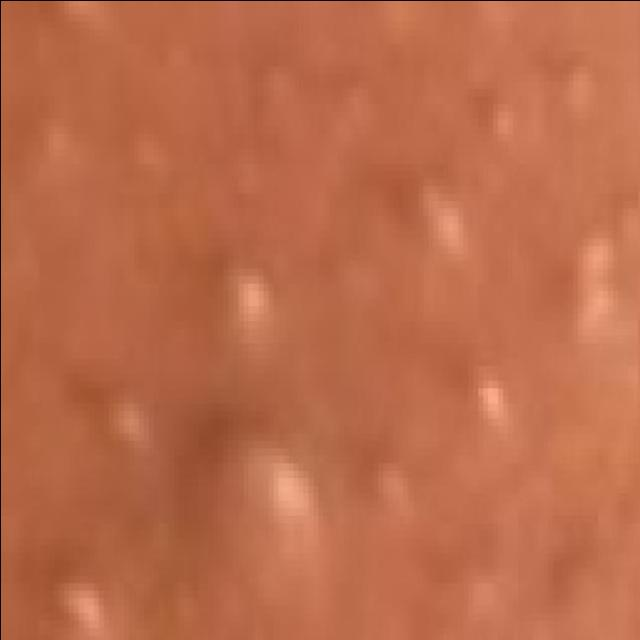whitehead: (8, 19, 632, 636)
